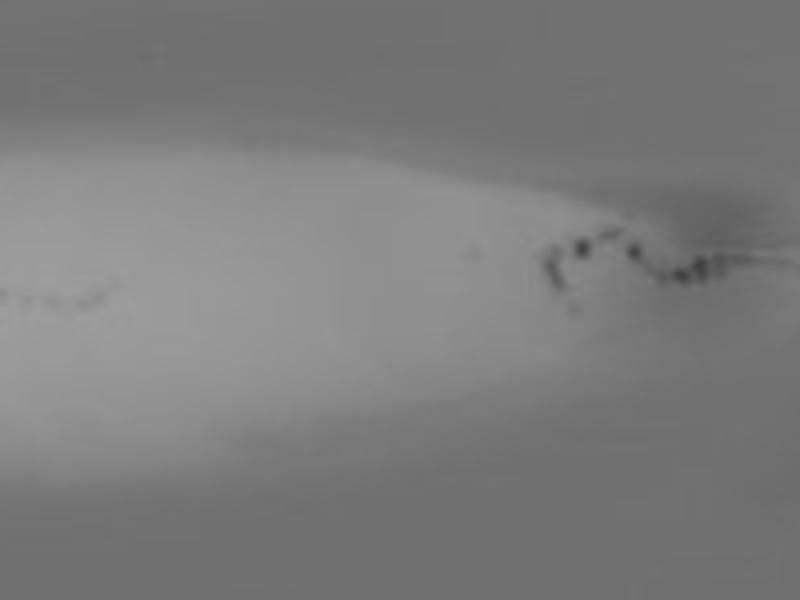defect: (540, 242, 571, 296), (88, 279, 120, 309), (459, 241, 490, 265), (691, 254, 711, 291), (562, 293, 588, 321), (667, 262, 692, 290), (712, 250, 732, 283), (734, 250, 765, 271), (567, 237, 591, 261), (596, 221, 626, 240), (38, 291, 63, 310), (624, 242, 646, 263), (651, 266, 668, 291), (71, 297, 93, 316), (18, 293, 32, 311), (1, 282, 11, 303)
